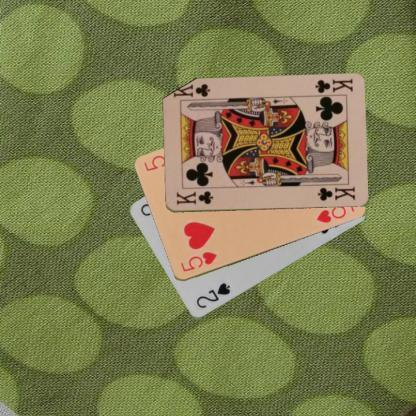2s: (194, 280, 232, 310)
5h: (178, 249, 218, 274)
Kc: (312, 76, 354, 94), (174, 189, 214, 206)
